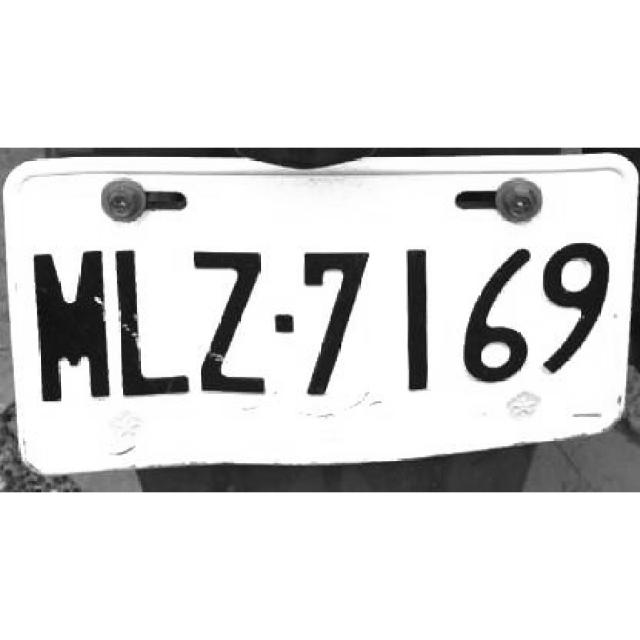-: (272, 307, 294, 338)
1: (402, 238, 429, 398)
6: (460, 242, 535, 388)
7: (298, 242, 374, 400)
9: (532, 234, 614, 383)
L: (109, 244, 191, 398)
M: (32, 246, 108, 402)
Z: (192, 242, 268, 398)
